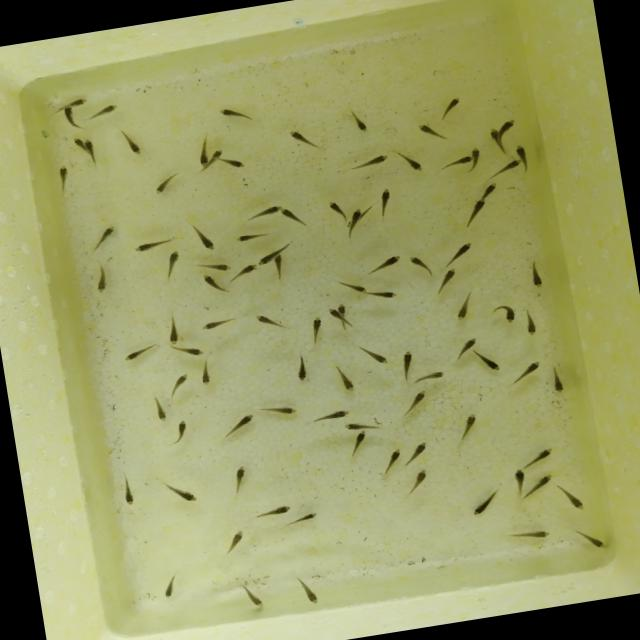fingerling: (161, 476, 199, 508), (87, 222, 122, 254), (286, 124, 322, 154), (219, 412, 258, 439), (152, 166, 185, 197), (345, 153, 391, 175), (220, 526, 251, 558), (469, 346, 502, 376), (573, 524, 608, 552), (393, 146, 425, 176), (484, 158, 524, 182), (468, 489, 501, 518), (460, 197, 489, 230), (358, 340, 392, 368), (508, 360, 544, 386), (440, 242, 476, 268), (558, 482, 587, 514), (399, 388, 431, 417), (196, 271, 228, 300), (344, 431, 372, 464), (258, 400, 300, 422), (414, 119, 448, 146), (117, 124, 144, 158), (406, 252, 436, 282), (238, 582, 268, 612), (392, 346, 417, 382), (450, 292, 478, 324), (332, 362, 358, 396), (192, 355, 218, 389), (308, 406, 352, 426), (365, 253, 403, 276), (506, 526, 552, 545), (277, 202, 308, 230), (344, 105, 372, 136), (161, 250, 186, 284), (375, 185, 399, 220), (192, 220, 217, 253), (217, 102, 251, 126), (456, 411, 482, 442), (296, 577, 322, 608), (122, 342, 158, 364), (405, 466, 432, 495), (162, 312, 185, 346), (193, 257, 233, 276), (529, 472, 558, 498), (218, 152, 252, 174), (432, 155, 476, 172), (546, 362, 568, 396), (245, 202, 282, 222), (344, 418, 385, 436), (290, 352, 313, 384), (378, 446, 404, 474), (438, 94, 466, 120), (436, 267, 462, 295), (524, 445, 557, 467), (519, 305, 541, 338), (192, 134, 212, 170), (490, 302, 520, 326), (252, 309, 283, 332), (134, 238, 178, 254), (165, 372, 192, 398), (321, 195, 347, 222), (403, 440, 432, 464), (230, 463, 251, 496), (170, 341, 206, 360), (256, 502, 294, 520), (91, 262, 112, 294), (234, 227, 276, 243), (284, 512, 320, 530), (90, 100, 124, 119), (150, 393, 170, 425), (118, 474, 138, 506), (526, 258, 546, 290), (306, 315, 326, 346), (158, 574, 180, 602), (412, 369, 448, 386), (198, 316, 234, 333), (338, 276, 368, 296), (368, 286, 400, 304), (510, 466, 530, 494), (56, 164, 74, 195), (232, 264, 259, 284), (171, 418, 192, 443), (272, 254, 288, 284), (455, 336, 481, 353), (348, 208, 365, 234), (84, 135, 98, 166), (499, 117, 520, 137), (62, 104, 76, 130), (482, 181, 501, 198), (70, 94, 90, 110), (255, 252, 272, 269), (514, 142, 532, 158), (72, 134, 86, 152), (487, 125, 501, 142), (210, 146, 225, 160), (325, 304, 339, 318), (472, 146, 482, 163), (336, 302, 350, 313)
